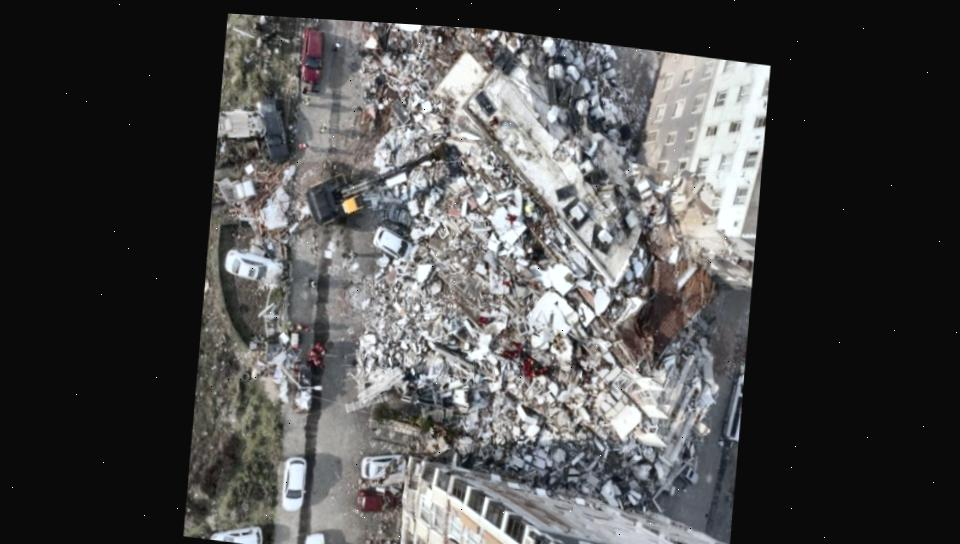kapali: (293, 18, 374, 138)
